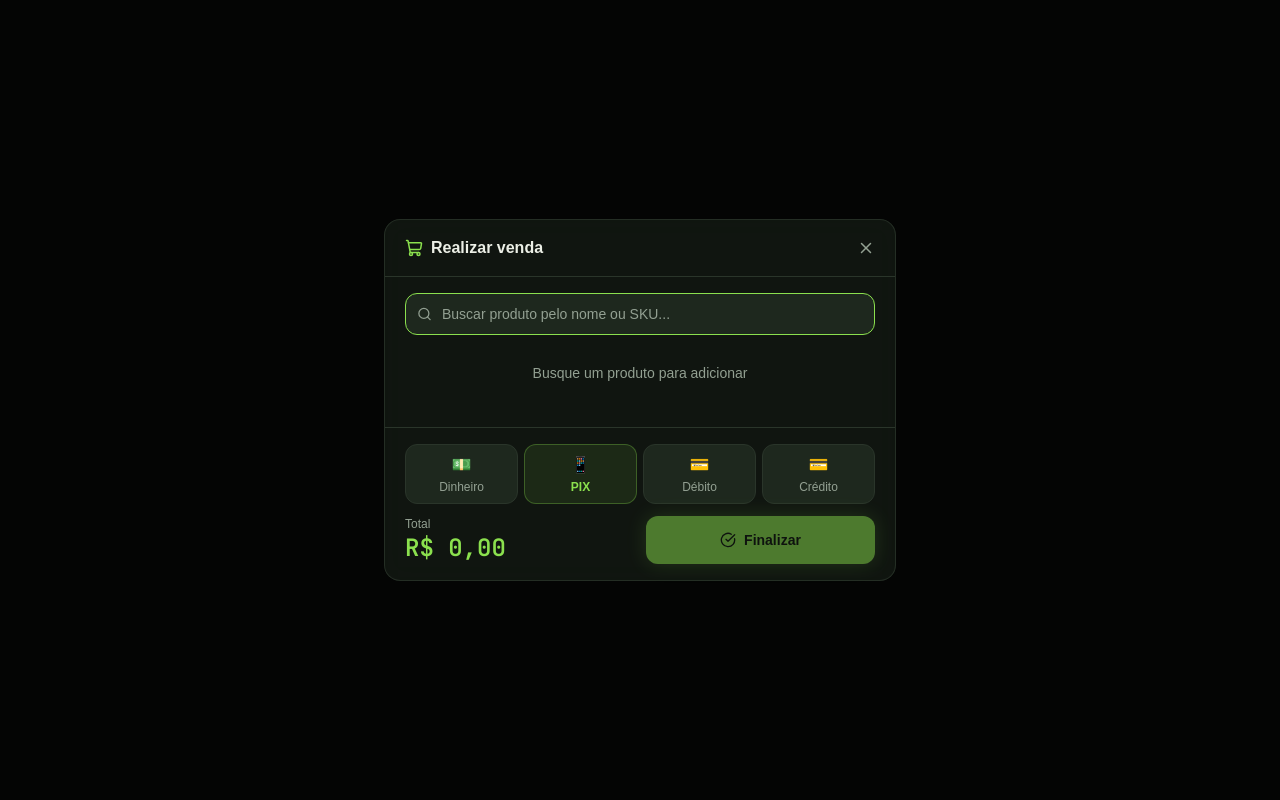
QuickSaleModal — finalization › shows the success state after a successful sale
Type "virginia" into the field with placeholder "Buscar produto pelo nome ou SKU...". click: (640, 314)
box: x1=405 y1=293 x2=875 y2=335
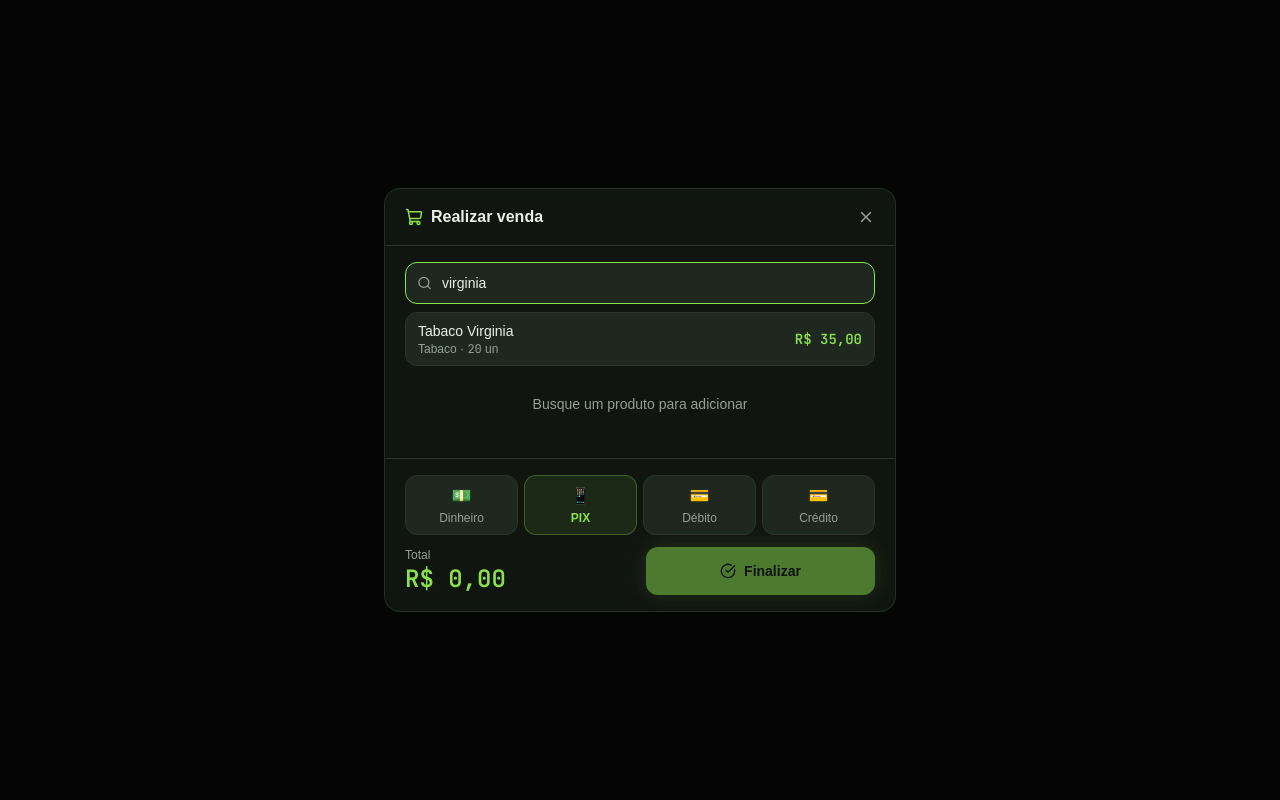
Click the text "Tabaco Virginia". click: (466, 331)
box: x1=418 y1=321 x2=514 y2=341
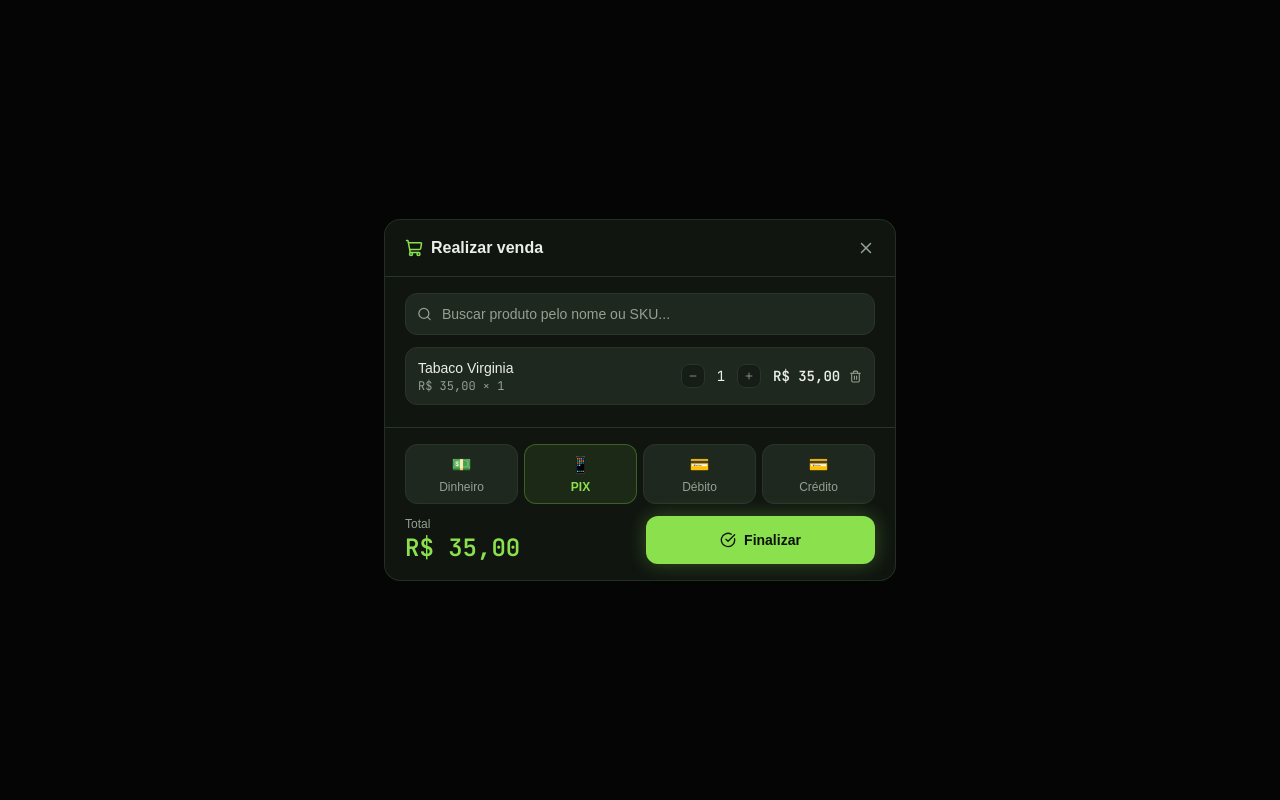
Click the button "Finalizar". click: (760, 540)
box: x1=646 y1=516 x2=875 y2=564
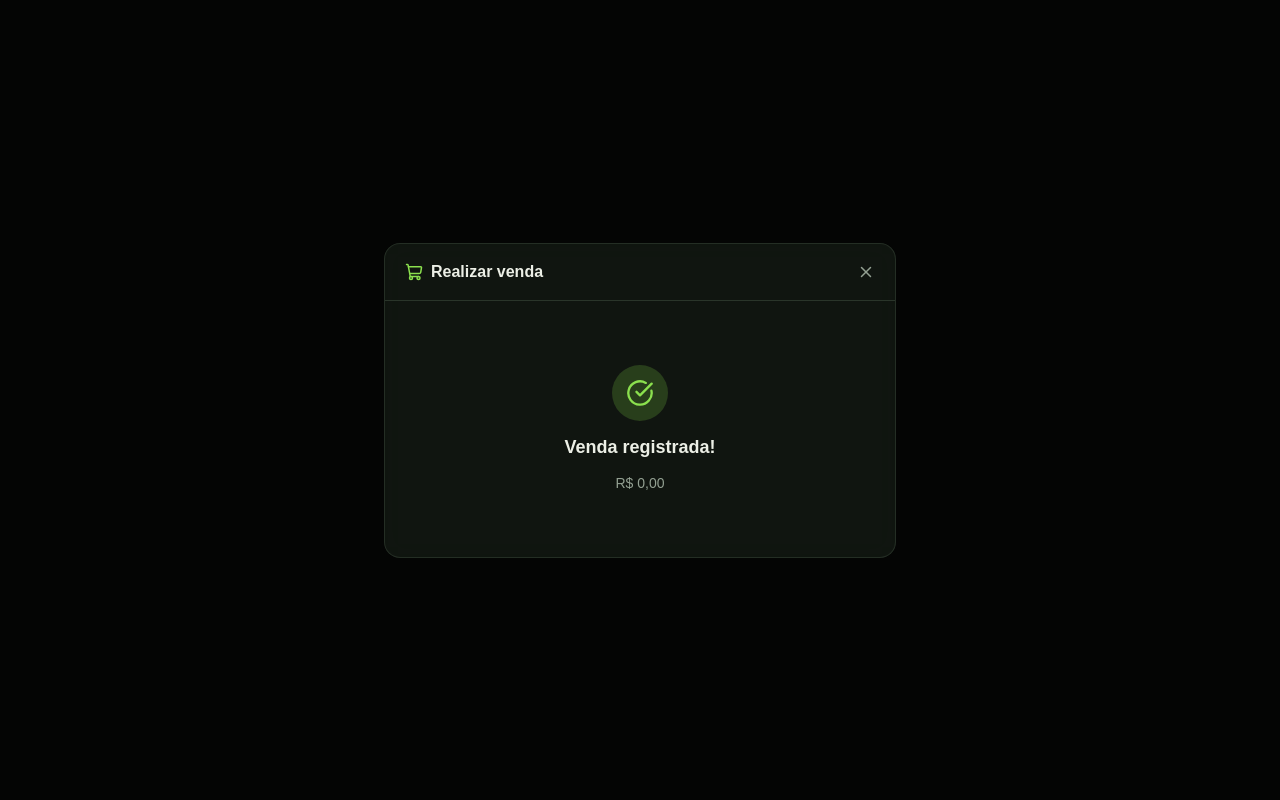
expect the text "Venda registrada!" is shown: met, box x1=564 y1=432 x2=716 y2=460
